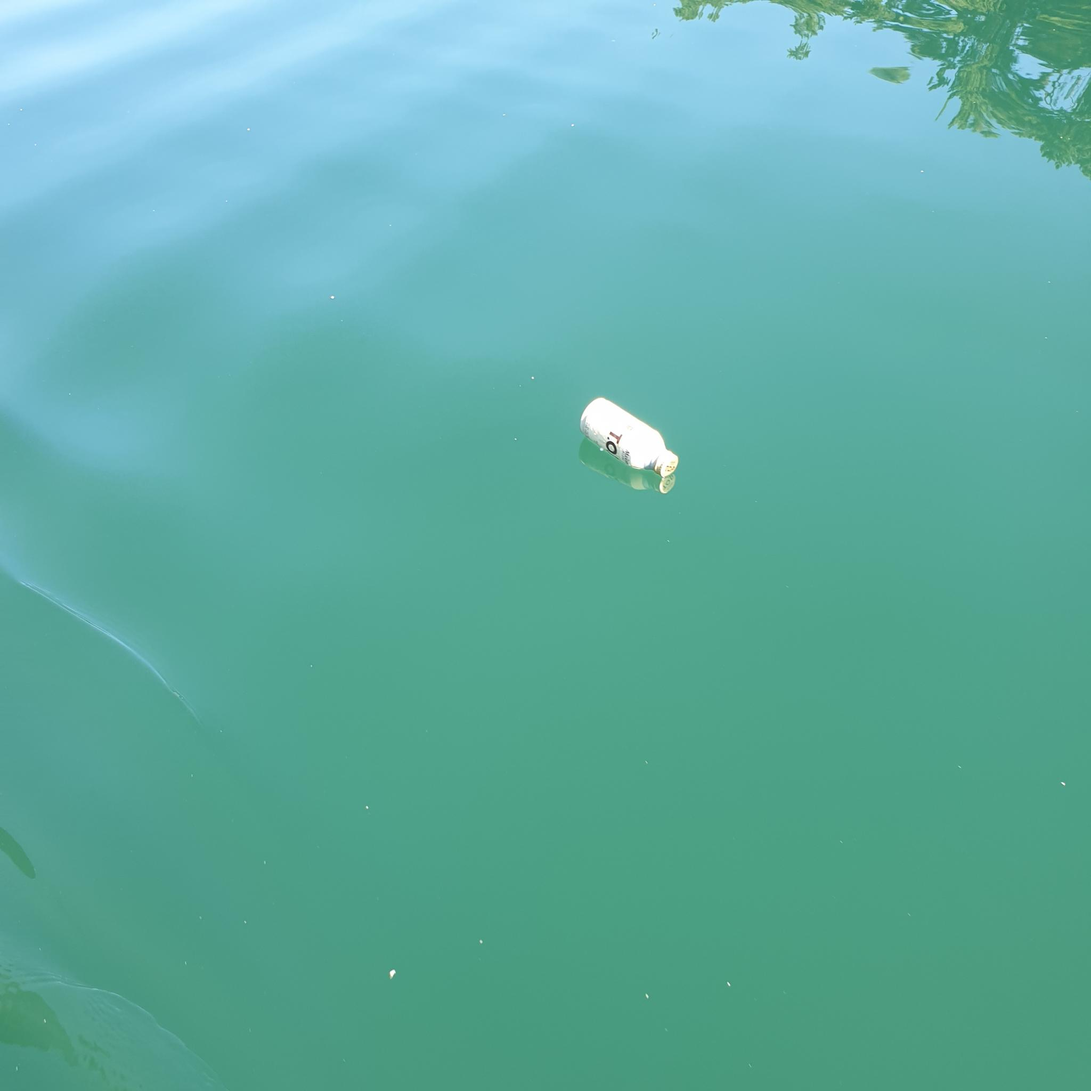sampah_terapung: (581, 398, 679, 478)
